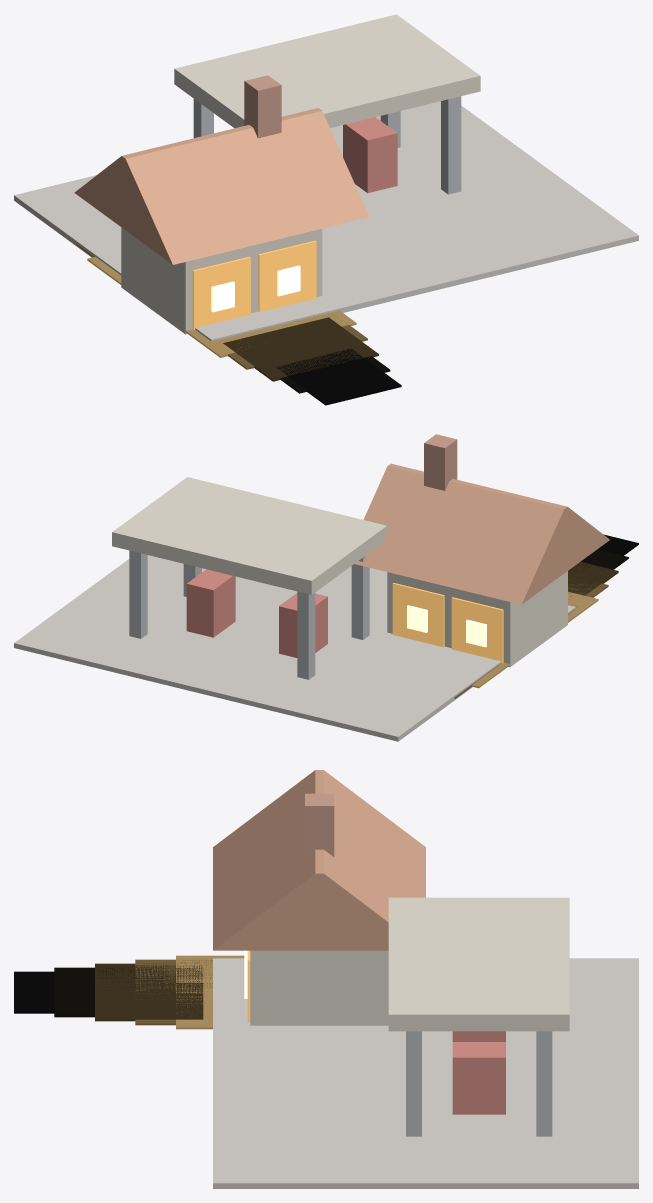
Rendered from plc_filling_station.glb.
The picture shows the model from 3 angles, top to bottom: view 1: azimuth 30°, elevation 25°; view 2: azimuth 150°, elevation 25°; view 3: azimuth 270°, elevation 25°; orthographic projection. The views are drawn at different scales.
Parts seen in each view (by area): view 1: plc_filling_station; view 2: plc_filling_station; view 3: plc_filling_station.
Boxes of the visible parts, bbox=[...] form: plc_filling_station: bbox=[14, 14, 638, 405]; plc_filling_station: bbox=[14, 434, 638, 741]; plc_filling_station: bbox=[14, 770, 638, 1188].
Size of the model in its own units: 1.85 by 0.771 by 2.
